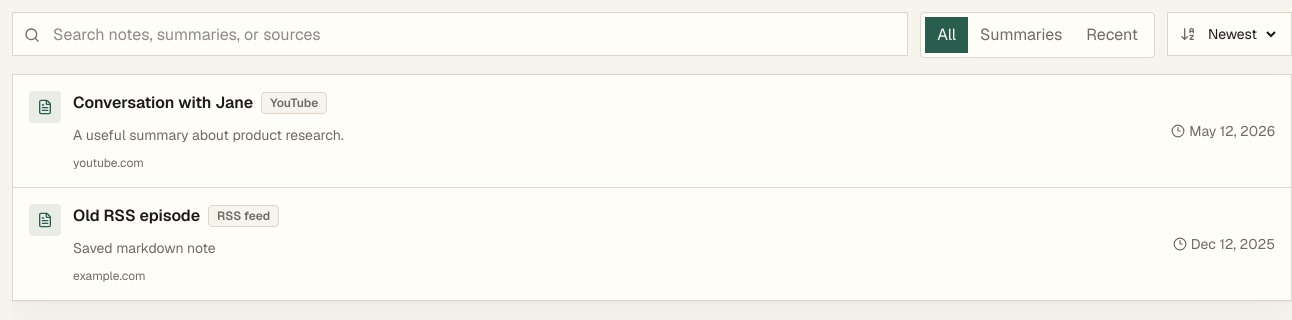
Test: LibraryList › filters notes by search text and source URL
The width and height of the screenshot is (1292, 320).
In the search field named "Search library": (460, 34) top-left (12, 12), bottom-right (908, 56), type "youtube"
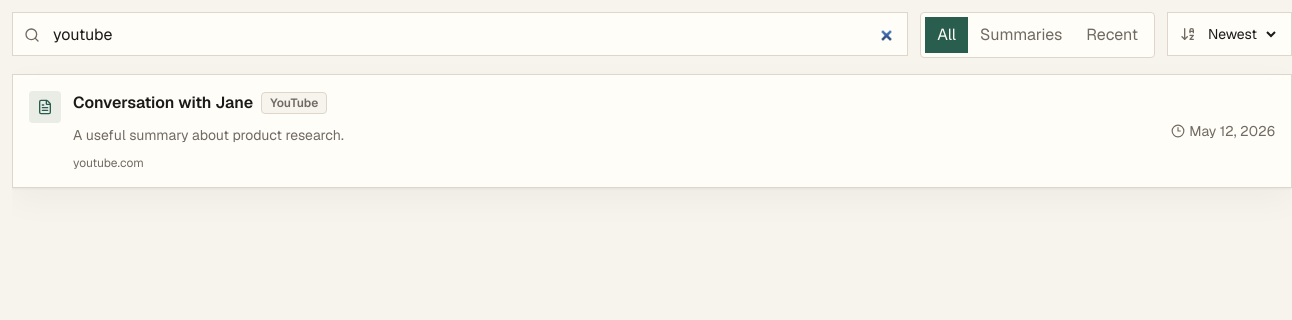
Check: the heading "Conversation with Jane" is shown, box top-left (73, 91), bottom-right (253, 115)
Check: the link "Old RSS episode" is gone
